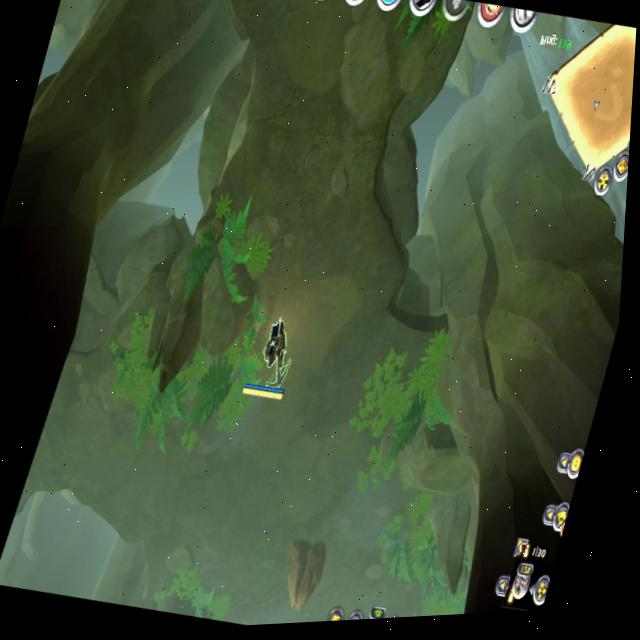ore: (268, 524, 336, 617)
red: (235, 310, 311, 410)
